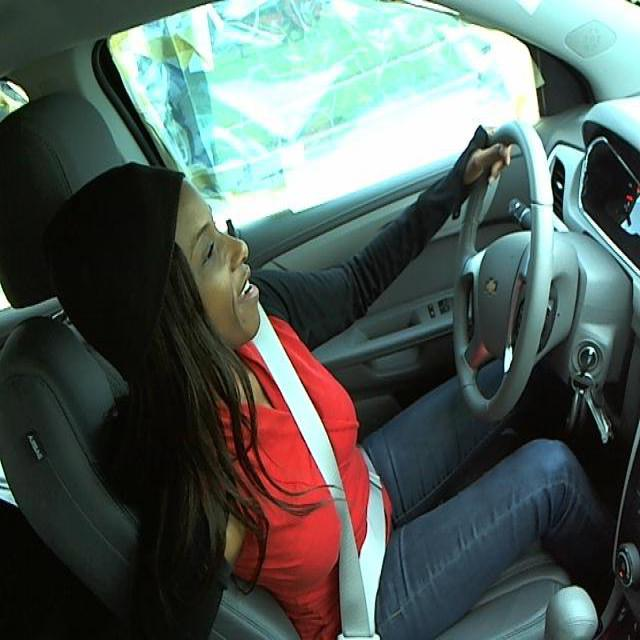seatbelt: (245, 325, 386, 639)
